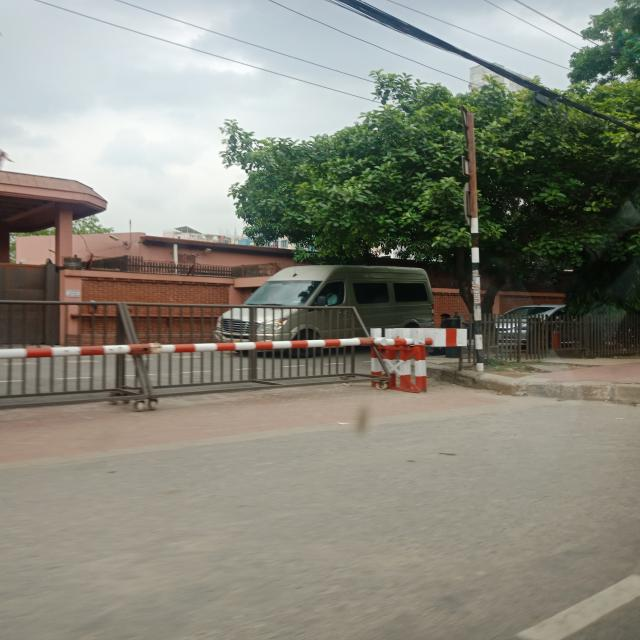microbus: (216, 252, 448, 366)
